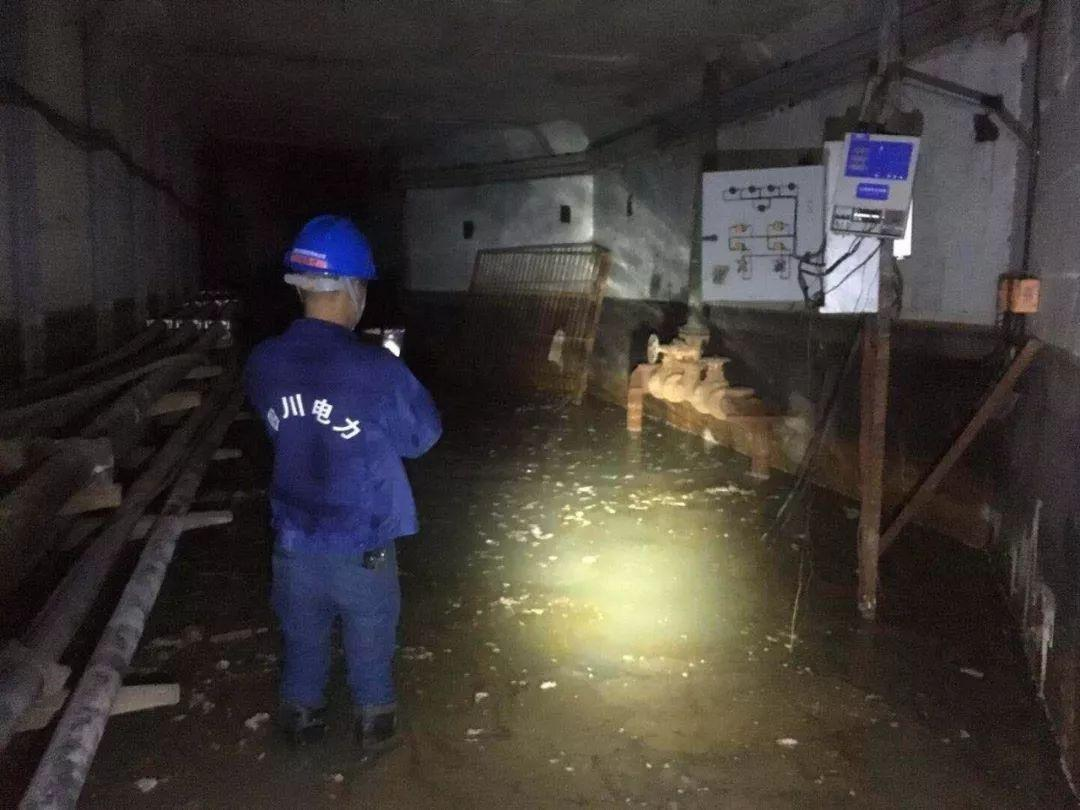Helmet: (293, 213, 373, 317)
NoVest: (253, 332, 412, 527)
